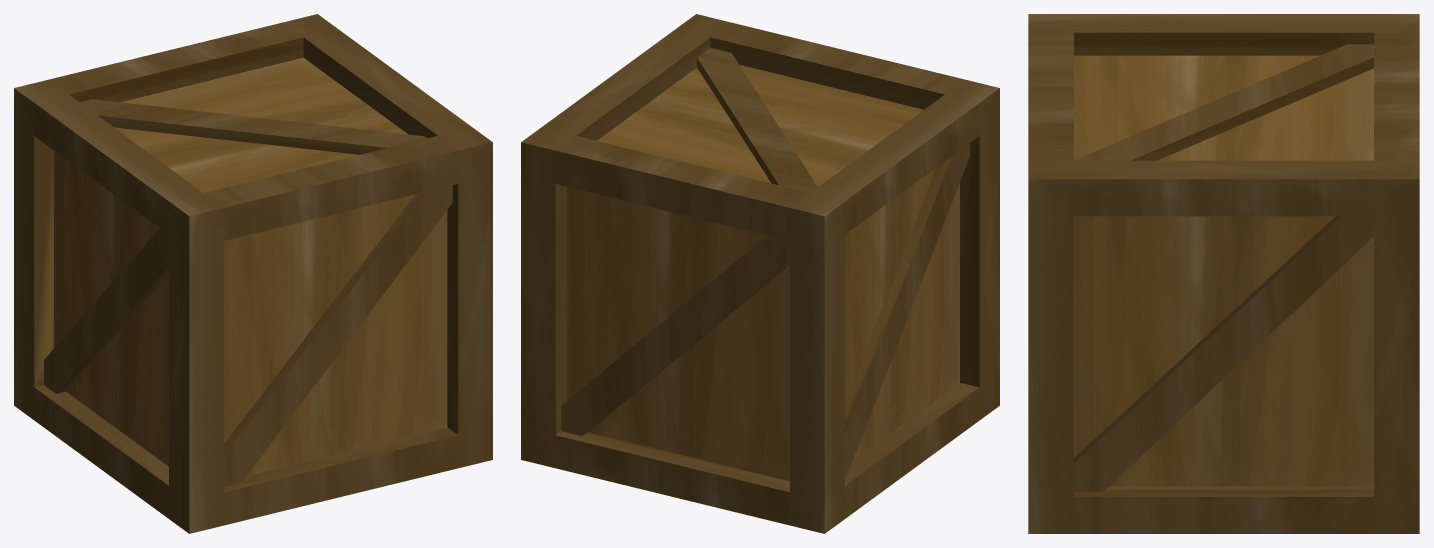
The model's file is WoodenCrate1.fbx.
3 renders of one model, left to right at view 1: azimuth 30°, elevation 25°; view 2: azimuth 150°, elevation 25°; view 3: azimuth 270°, elevation 25°, orthographic. The views are drawn at different scales.
Parts seen in each view (by area): view 1: WoodenCrate1; view 2: WoodenCrate1; view 3: WoodenCrate1.
Boxes of the visible parts, left/top/right/bottom form: WoodenCrate1: left=14, top=14, right=492, bottom=533; WoodenCrate1: left=521, top=14, right=999, bottom=533; WoodenCrate1: left=1028, top=14, right=1419, bottom=533.
Size of the model in its own units: 1.97 by 1.97 by 1.97.
